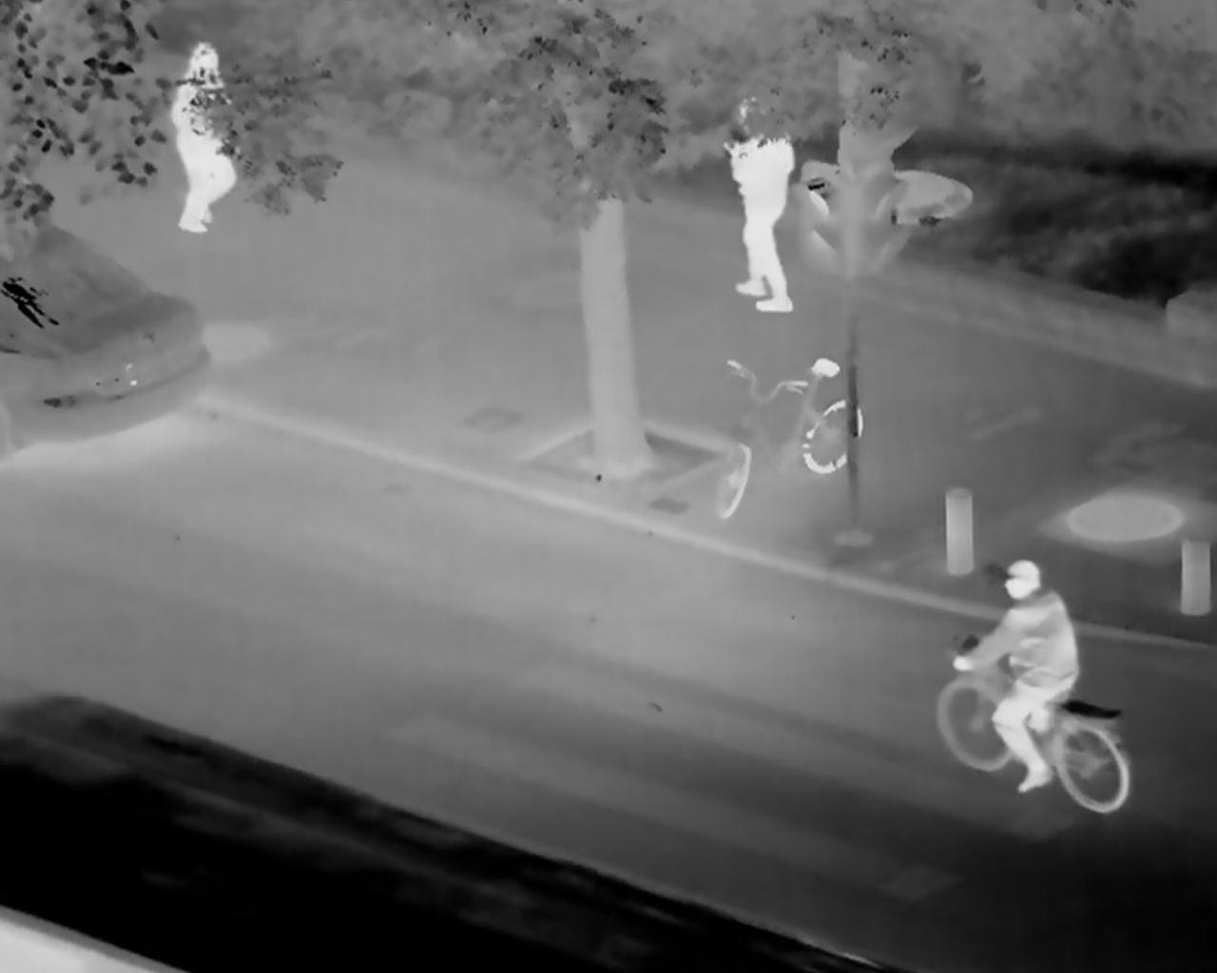person: (950, 559, 1083, 799), (716, 96, 796, 316), (168, 46, 239, 236)
